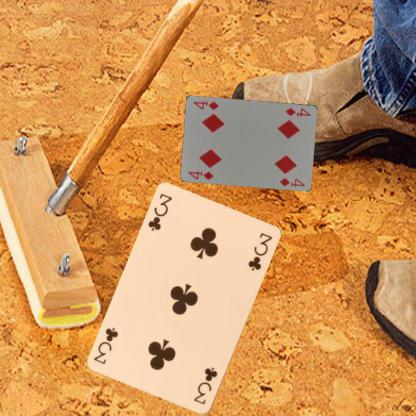3c: (145, 191, 174, 233), (191, 365, 219, 406)
4d: (283, 104, 312, 118), (186, 168, 215, 181)
